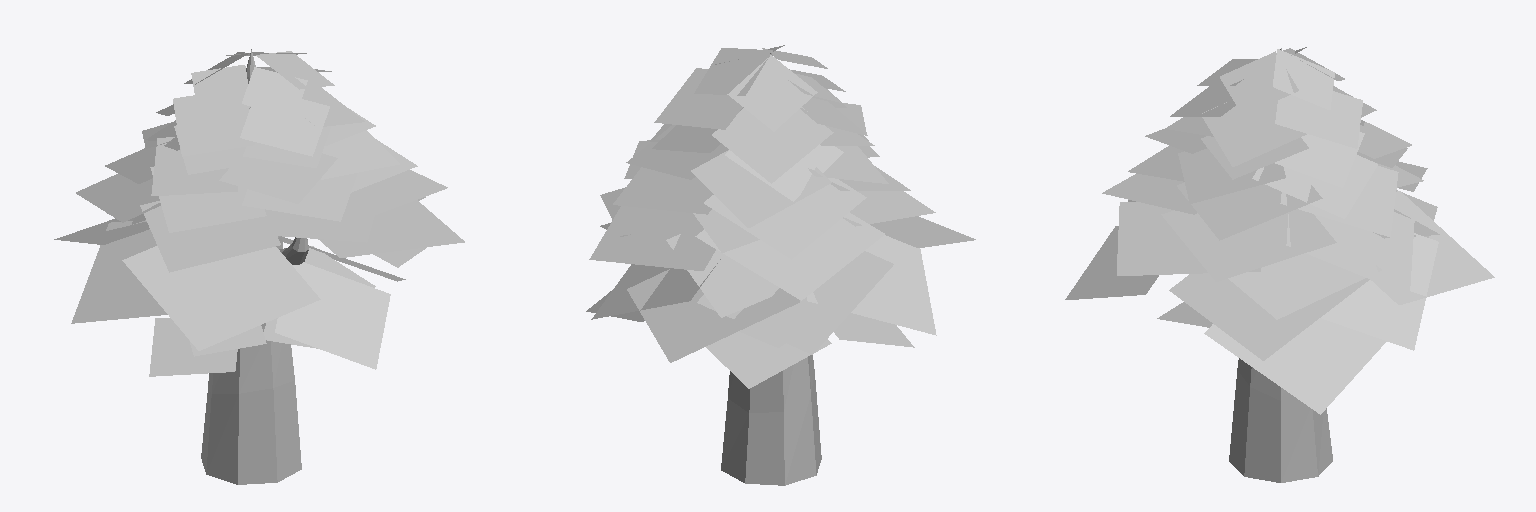
Rendered from Tree_1.obj.
3 views of the same model, side by side, from view 1: azimuth 30°, elevation 25°; view 2: azimuth 150°, elevation 25°; view 3: azimuth 270°, elevation 25° (orthographic).
Bounding box in the file's own units: 15.46 × 17.3 × 16.3.